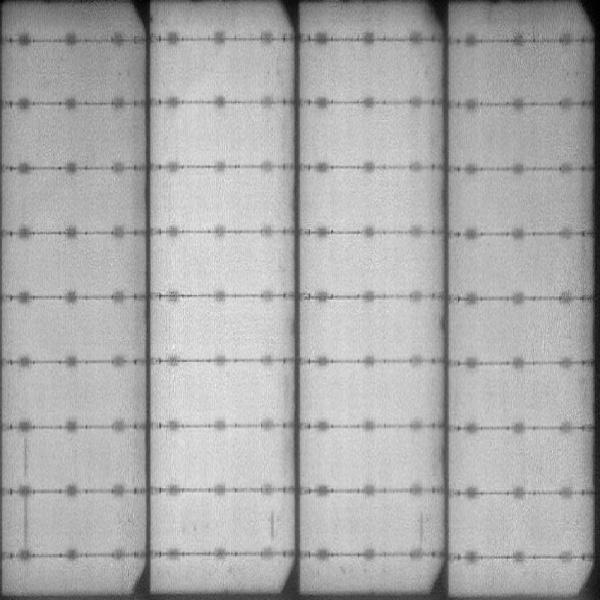scratch: (16, 500, 41, 548), (20, 434, 37, 485), (414, 504, 431, 549), (268, 511, 281, 544)
